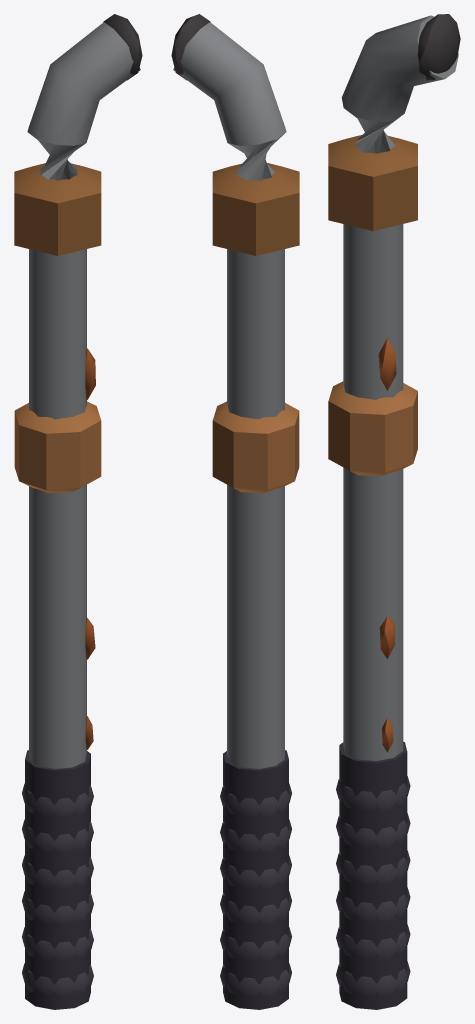
File: lead_pipe.glb
3 renders of one model, left to right at view 1: azimuth 30°, elevation 25°; view 2: azimuth 150°, elevation 25°; view 3: azimuth 330°, elevation 25°, orthographic. The views are drawn at different scales.
Parts seen in each view (by area): view 1: lead_pipe; view 2: lead_pipe; view 3: lead_pipe.
Part boxes in pixels (x1=…): lead_pipe: x1=14, y1=14, x2=142, y2=1009; lead_pipe: x1=171, y1=14, x2=299, y2=1009; lead_pipe: x1=328, y1=14, x2=460, y2=1009.
Size of the model in its own units: 0.1041 by 0.806 by 0.068.
